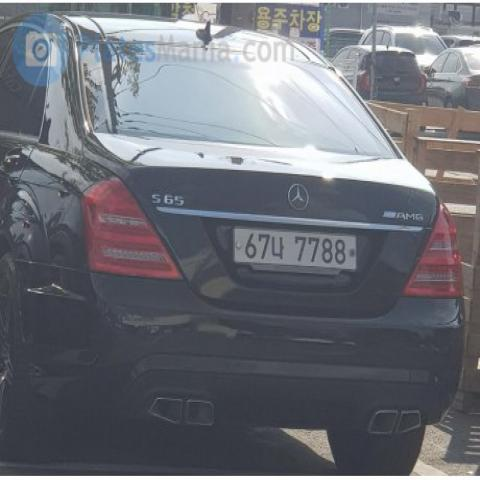LP: (224, 218, 368, 284)
